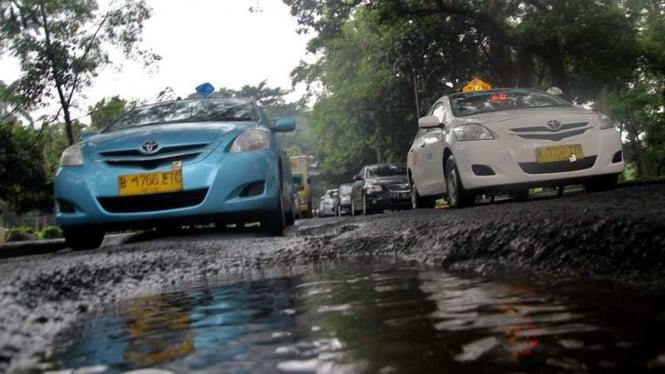Pothole: (0, 266, 665, 374)
